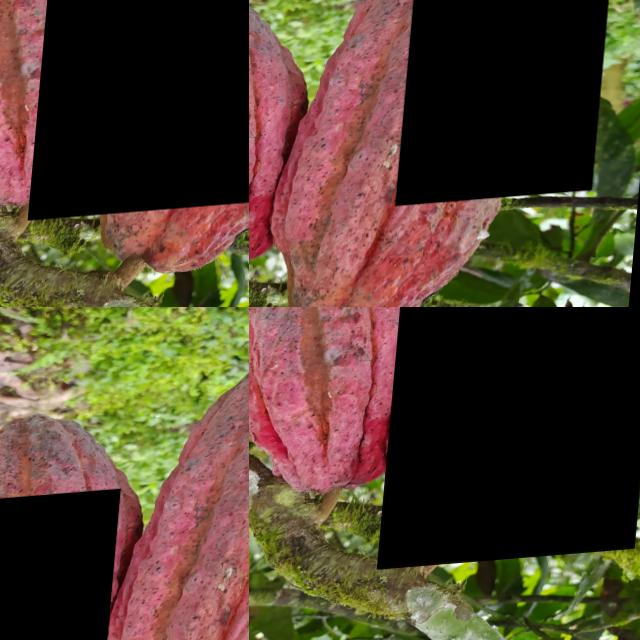Monilia: (402, 0, 621, 212)
Sana: (386, 307, 640, 574), (36, 0, 249, 223), (249, 307, 437, 504), (0, 493, 125, 640), (140, 467, 208, 519), (190, 425, 233, 499)
